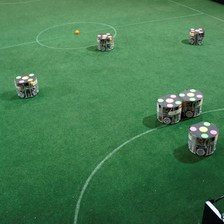ball: (73, 27, 80, 35)
robot: (184, 117, 220, 156), (11, 70, 41, 100), (154, 92, 182, 124), (180, 85, 203, 118), (186, 24, 207, 46), (94, 31, 115, 52)
